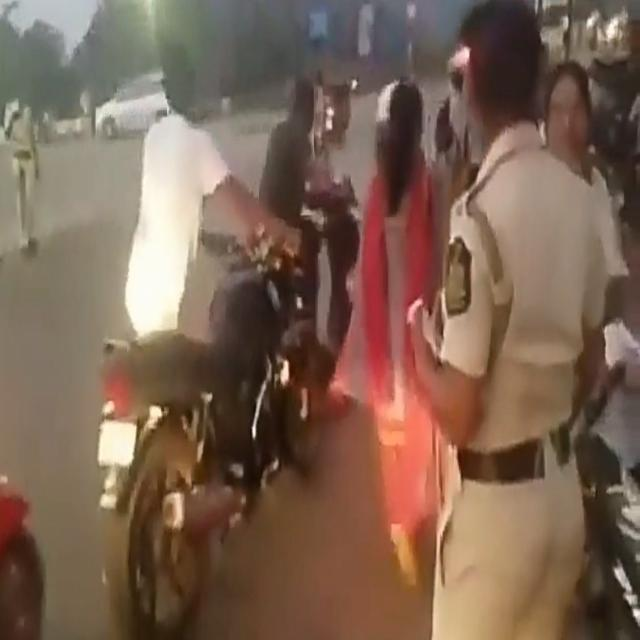No helmet: (539, 54, 610, 169), (149, 29, 217, 139)
